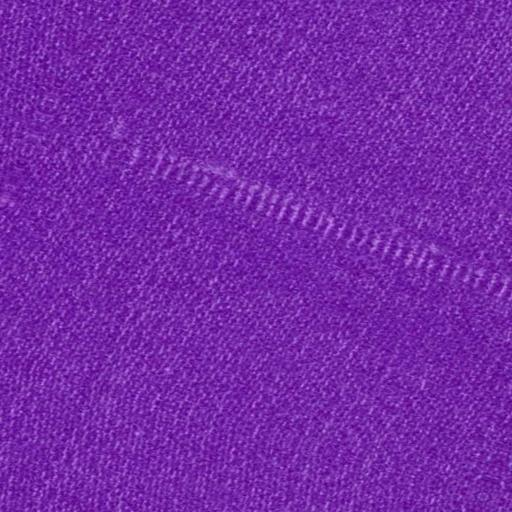slub: (129, 135, 511, 305)
